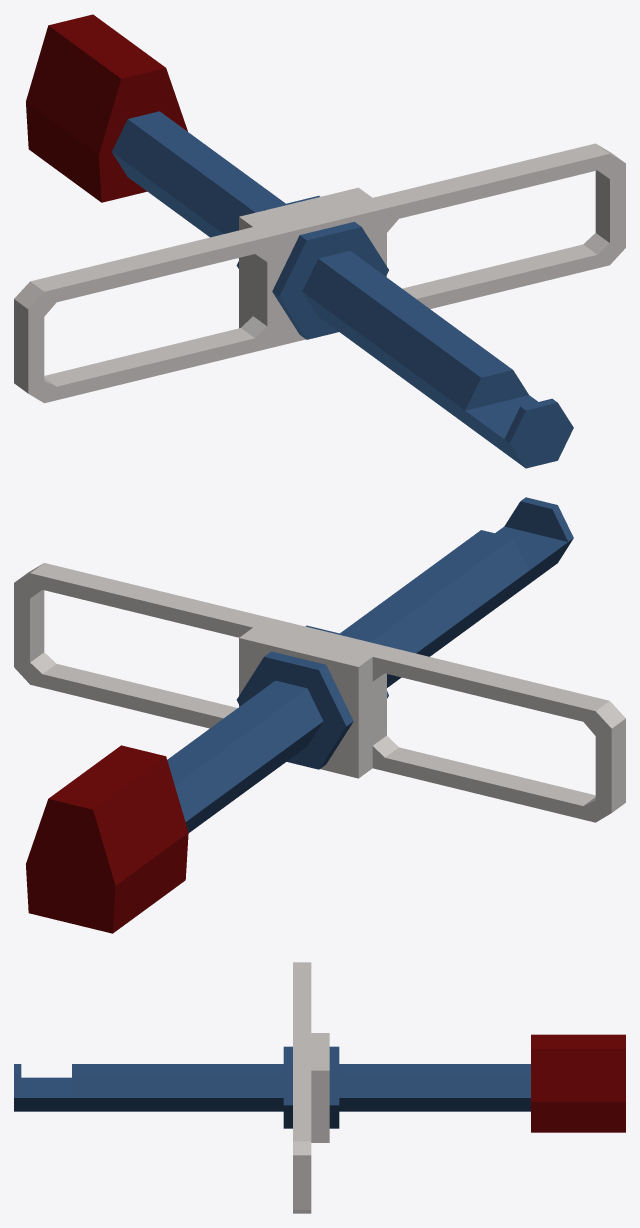
Rendered from 41e38e5c-41d6-4577-83dc-ebdff7527bf2.glb.
The picture shows the model from 3 angles, top to bottom: view 1: azimuth 30°, elevation 25°; view 2: azimuth 150°, elevation 25°; view 3: azimuth 270°, elevation 25°; orthographic projection. The views are drawn at different scales.
Visible parts, largest first — view 1: SocketHeadCaptureObj; view 2: SocketHeadCaptureObj; view 3: SocketHeadCaptureObj.
Boxes of the visible parts, x1,y1,x2,y2 form: SocketHeadCaptureObj: (14,14,625,468); SocketHeadCaptureObj: (14,497,625,933); SocketHeadCaptureObj: (14,962,625,1213).
Size of the model in its own units: 0.4862 by 0.0985 by 0.6638.
1 material, 1 textured.
